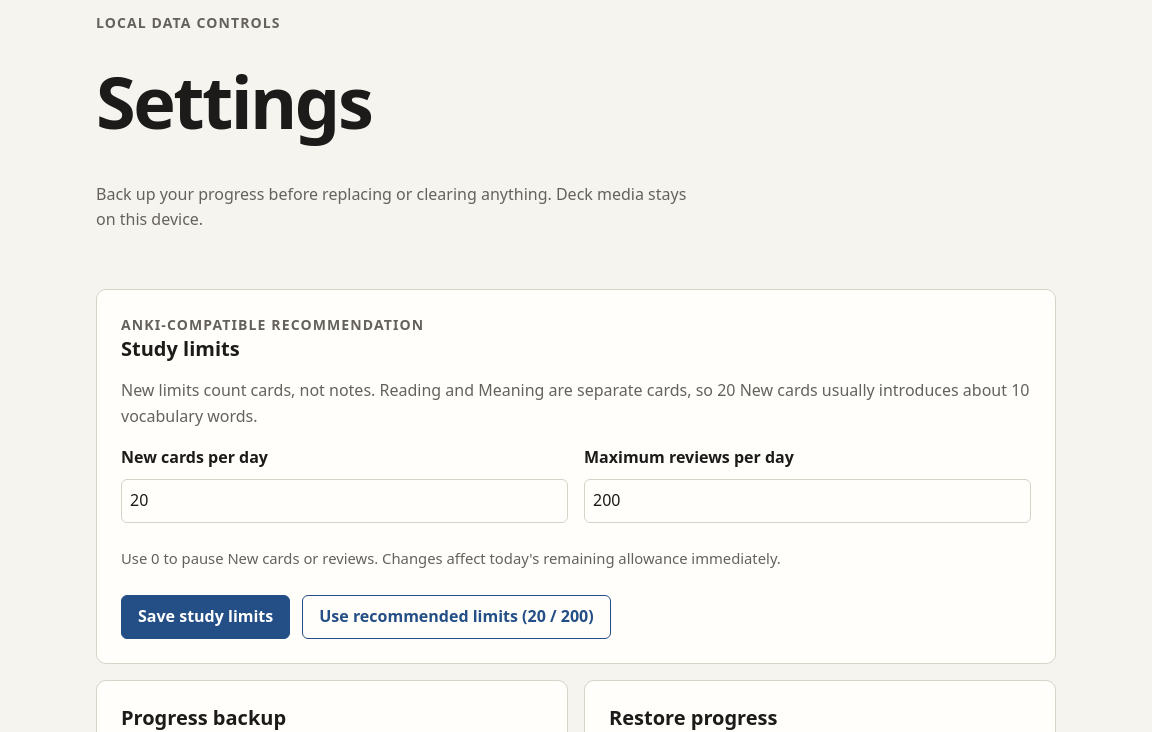
Test: offers the 20 New and 200 Review recommendation
The image size is (1152, 732).
Replace the text in the number field labelled "New cards per day" with "5" at point(344, 501), box [121,479,568,523]
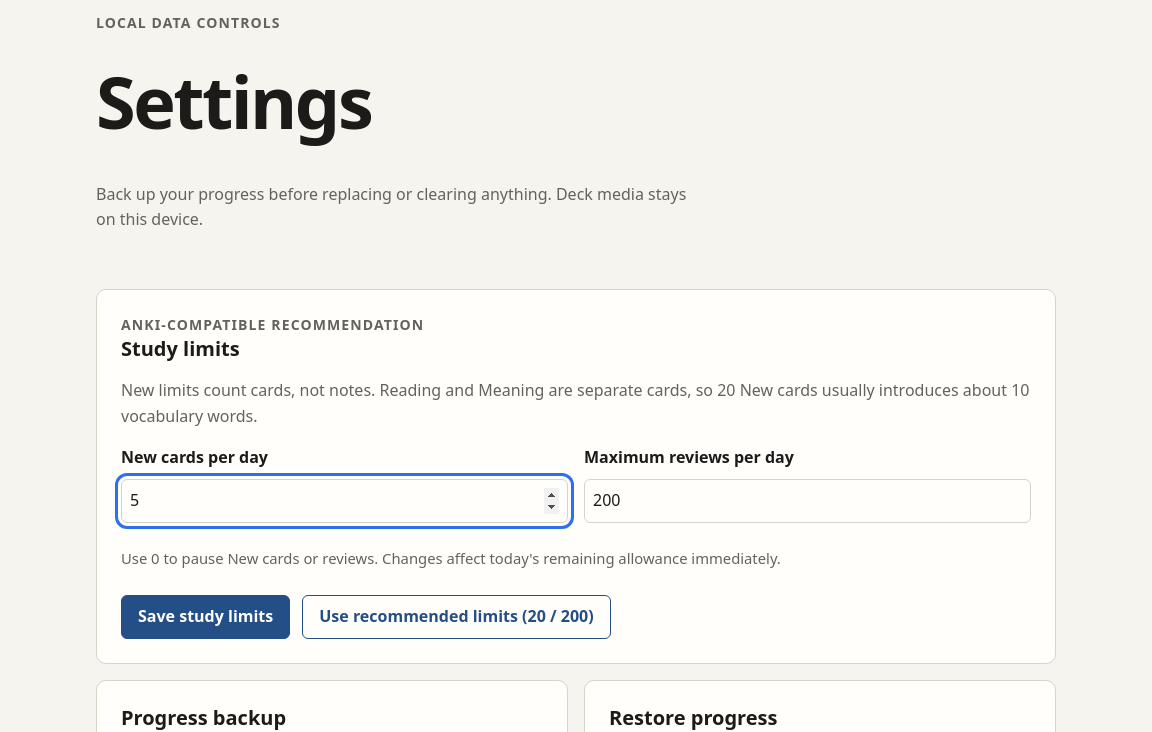
Click the button "Use recommended limits (20 / 200)".
click(456, 617)  # box [302,595,611,639]
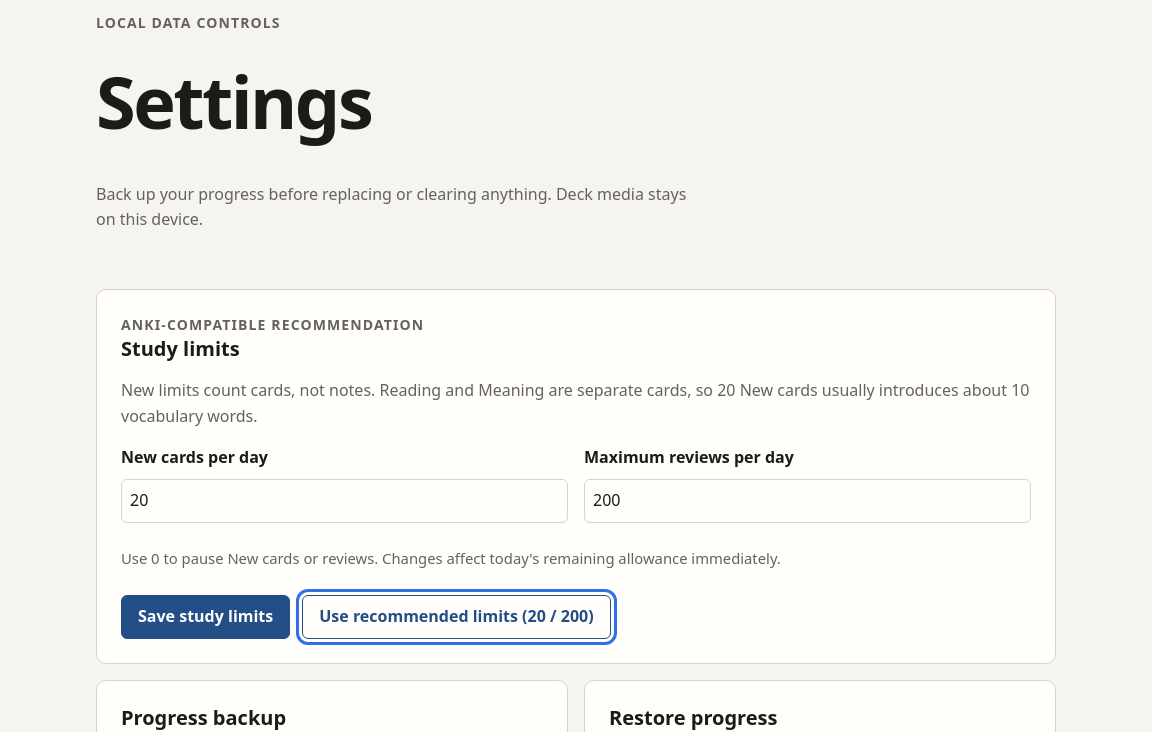
Expected: the number field labelled "Maximum reviews per day" holds "200", [584,479,1031,523]
Now the number field labelled "New cards per day" holds "20", box [121,479,568,523]
